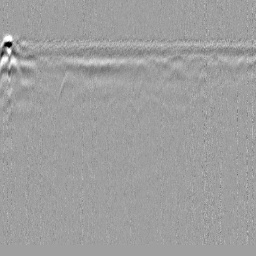cavity: (118, 97, 141, 129)
